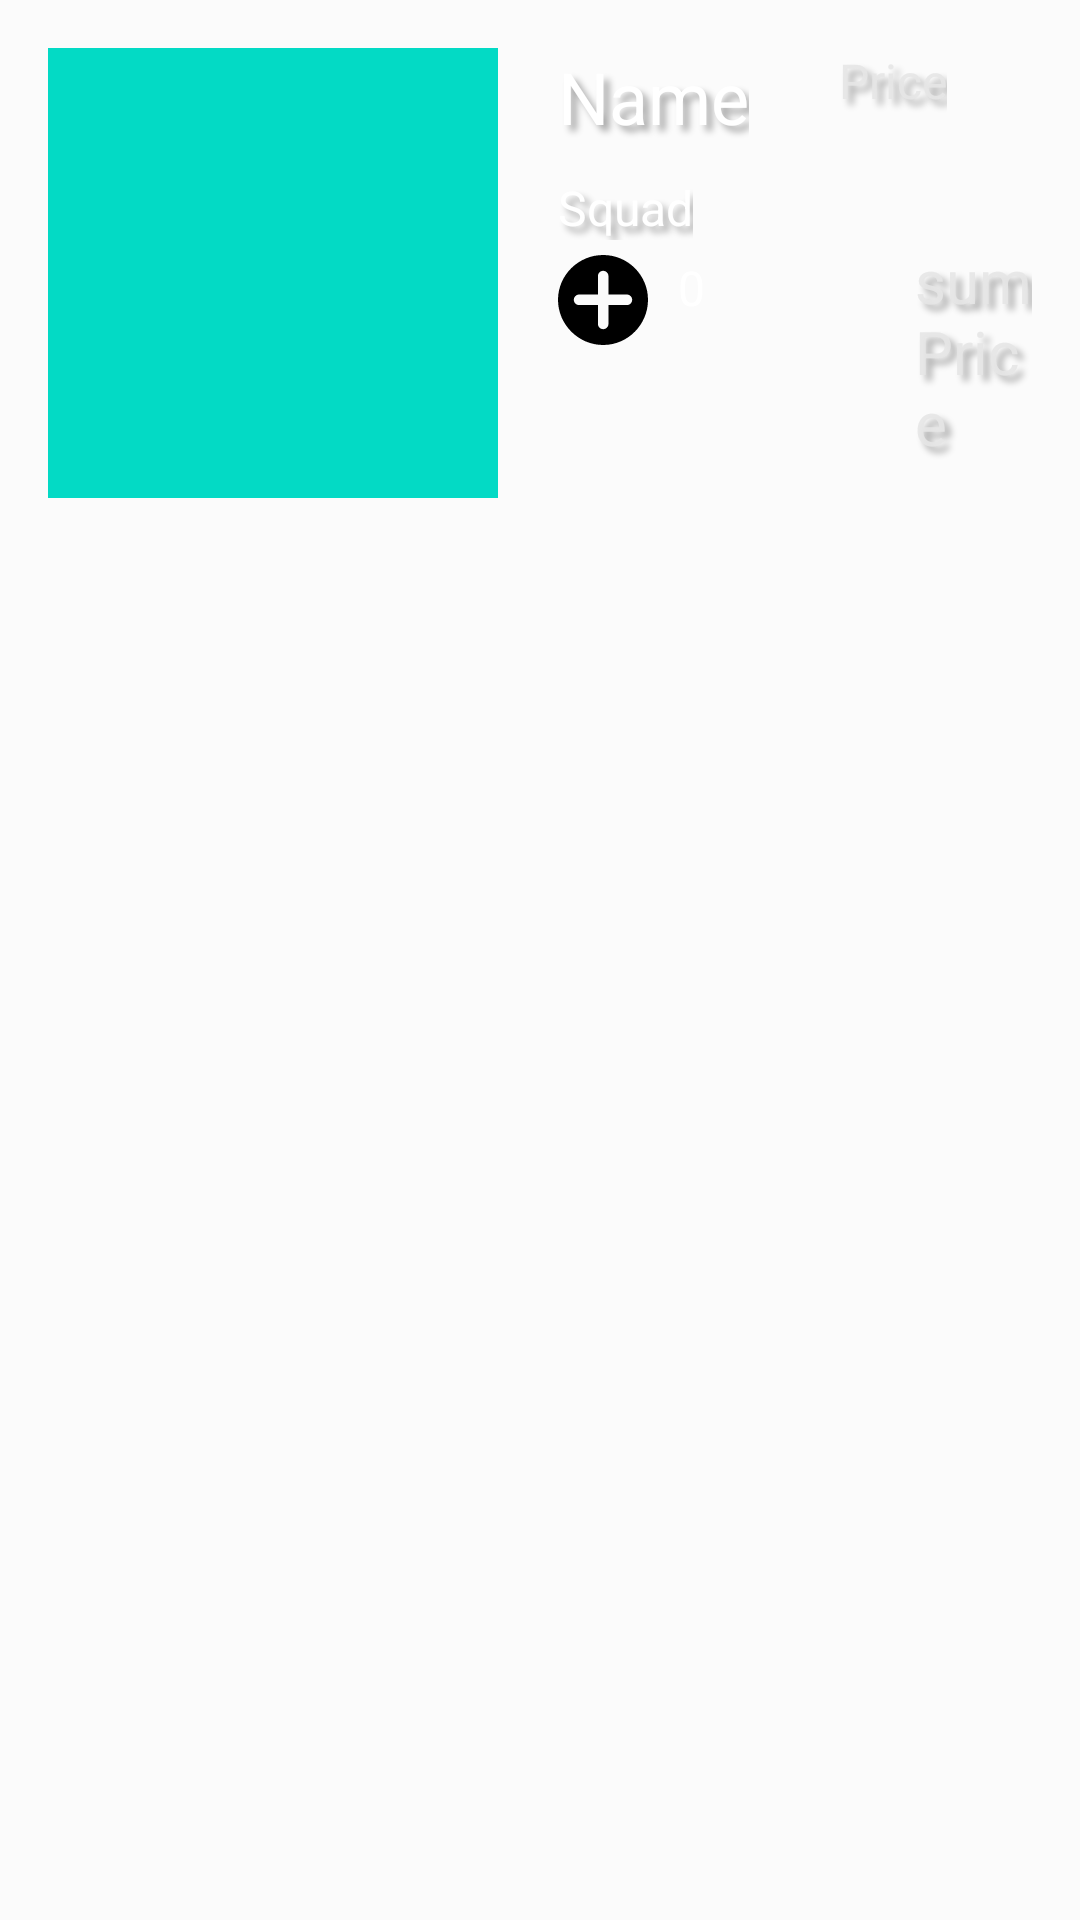

Icon click points for this 1080*1920 phone screenshot, format [x,y]:
add: [603,300]
